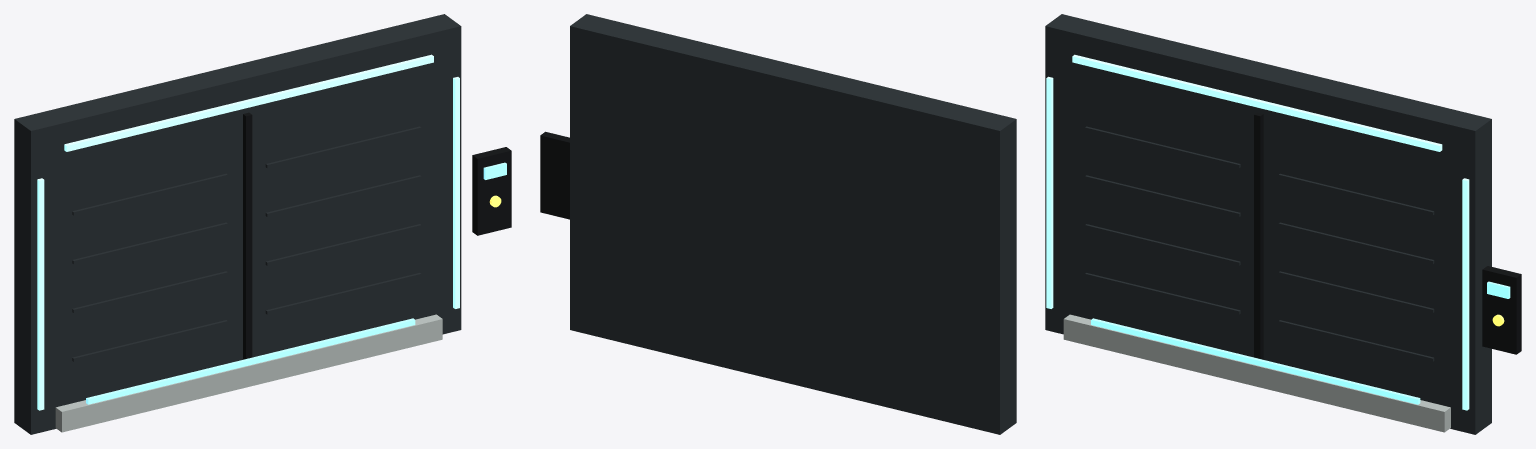
The model's file is hp_door_service_elevator_inner_cyan.glb.
3 renders of one model, left to right at view 1: azimuth 30°, elevation 25°; view 2: azimuth 150°, elevation 25°; view 3: azimuth 330°, elevation 25°, orthographic.
Parts seen in each view (by area): view 1: inner_elevator_outer_frame, inner_elevator_floor_threshold, inner_elevator_top_cyan_status, inner_elevator_call_panel_mount, inner_elevator_floor_cyan_threshold, inner_elevator_center_split_shadow, inner_elevator_left_vertical_cyan, inner_elevator_right_vertical_cyan, inner_elevator_panel_groove_right_1.74, inner_elevator_panel_groove_right_0.7, inner_elevator_panel_groove_right_1.22, inner_elevator_panel_groove_right_2.26 (+4 smaller); view 2: inner_elevator_outer_frame, inner_elevator_call_panel_mount; view 3: inner_elevator_outer_frame, inner_elevator_floor_threshold, inner_elevator_top_cyan_status, inner_elevator_call_panel_mount, inner_elevator_floor_cyan_threshold, inner_elevator_center_split_shadow, inner_elevator_right_vertical_cyan, inner_elevator_left_vertical_cyan, inner_elevator_panel_groove_right_0.7, inner_elevator_panel_groove_right_1.22, inner_elevator_panel_groove_right_1.74, inner_elevator_panel_groove_right_2.26 (+4 smaller).
Boxes of the visible parts, x1=… form: inner_elevator_outer_frame: x1=14, y1=14, x2=461, y2=434; inner_elevator_floor_threshold: x1=55, y1=314, x2=442, y2=432; inner_elevator_top_cyan_status: x1=64, y1=54, x2=433, y2=151; inner_elevator_call_panel_mount: x1=472, y1=147, x2=511, y2=235; inner_elevator_floor_cyan_threshold: x1=86, y1=318, x2=415, y2=404; inner_elevator_center_split_shadow: x1=243, y1=112, x2=252, y2=359; inner_elevator_left_vertical_cyan: x1=37, y1=178, x2=44, y2=410; inner_elevator_right_vertical_cyan: x1=453, y1=77, x2=459, y2=308; inner_elevator_panel_groove_right_1.74: x1=265, y1=175, x2=421, y2=216; inner_elevator_panel_groove_right_0.7: x1=265, y1=273, x2=421, y2=314; inner_elevator_panel_groove_right_1.22: x1=265, y1=224, x2=421, y2=265; inner_elevator_panel_groove_right_2.26: x1=265, y1=126, x2=421, y2=168; inner_elevator_outer_frame: x1=570, y1=14, x2=1016, y2=434; inner_elevator_call_panel_mount: x1=540, y1=131, x2=569, y2=219; inner_elevator_outer_frame: x1=1045, y1=14, x2=1491, y2=434; inner_elevator_floor_threshold: x1=1063, y1=314, x2=1450, y2=432; inner_elevator_top_cyan_status: x1=1072, y1=54, x2=1442, y2=151; inner_elevator_call_panel_mount: x1=1482, y1=266, x2=1521, y2=354; inner_elevator_floor_cyan_threshold: x1=1091, y1=318, x2=1420, y2=404; inner_elevator_center_split_shadow: x1=1254, y1=112, x2=1263, y2=359; inner_elevator_right_vertical_cyan: x1=1462, y1=178, x2=1469, y2=410; inner_elevator_left_vertical_cyan: x1=1046, y1=76, x2=1053, y2=308; inner_elevator_panel_groove_right_0.7: x1=1278, y1=320, x2=1434, y2=361; inner_elevator_panel_groove_right_1.22: x1=1278, y1=271, x2=1434, y2=312; inner_elevator_panel_groove_right_1.74: x1=1278, y1=222, x2=1434, y2=264; inner_elevator_panel_groove_right_2.26: x1=1278, y1=173, x2=1434, y2=215.
Size of the model in its own units: 5.31 by 3.24 by 0.4475.
